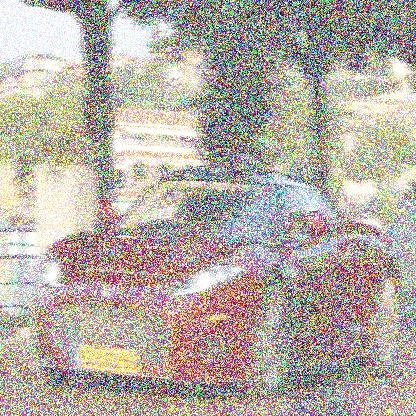Vehicle: (26, 151, 402, 405)
